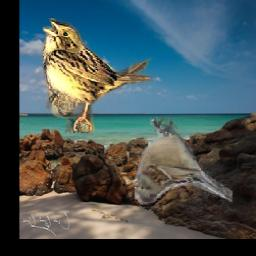Sparrow: (43, 19, 155, 134), (135, 117, 233, 205)
